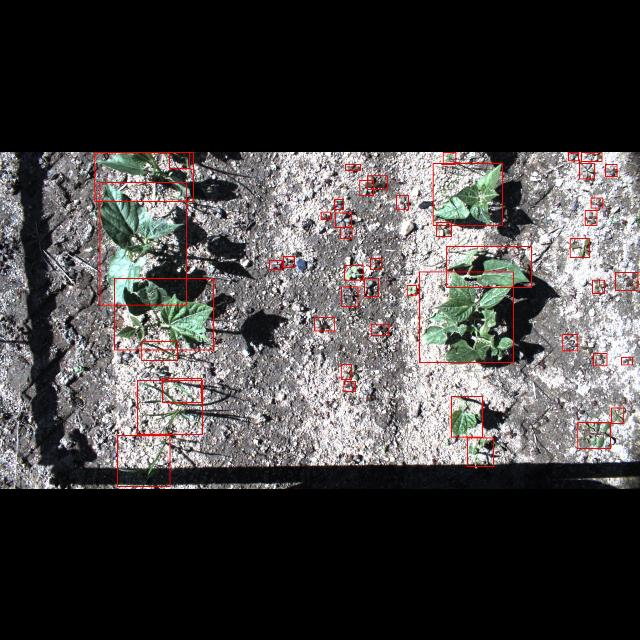crop: (100, 182, 186, 304), (419, 270, 513, 362), (114, 278, 213, 350), (94, 152, 194, 200), (433, 162, 503, 225), (446, 246, 532, 286), (451, 396, 483, 436)
weed: (138, 380, 202, 434), (118, 436, 170, 486), (162, 378, 202, 402), (578, 422, 610, 448), (466, 438, 494, 467), (142, 340, 178, 360), (616, 272, 638, 290), (570, 237, 588, 257), (344, 264, 364, 280), (169, 151, 189, 167), (342, 286, 358, 306), (315, 316, 335, 330), (367, 174, 387, 188), (562, 334, 578, 351), (364, 278, 378, 296), (334, 212, 352, 226), (436, 222, 452, 236), (580, 162, 594, 178), (610, 408, 624, 422), (360, 180, 374, 194), (371, 324, 389, 334), (341, 364, 352, 380), (592, 279, 604, 293), (442, 151, 456, 163), (585, 210, 597, 224), (593, 353, 607, 365), (396, 195, 408, 209), (582, 152, 602, 160), (605, 163, 617, 175), (340, 226, 352, 238), (591, 197, 603, 207), (344, 381, 356, 391), (370, 258, 382, 268), (270, 259, 282, 269), (407, 285, 417, 295), (334, 198, 344, 208), (284, 256, 294, 266), (346, 163, 360, 169), (568, 152, 578, 160), (622, 356, 632, 364), (321, 211, 331, 219)
